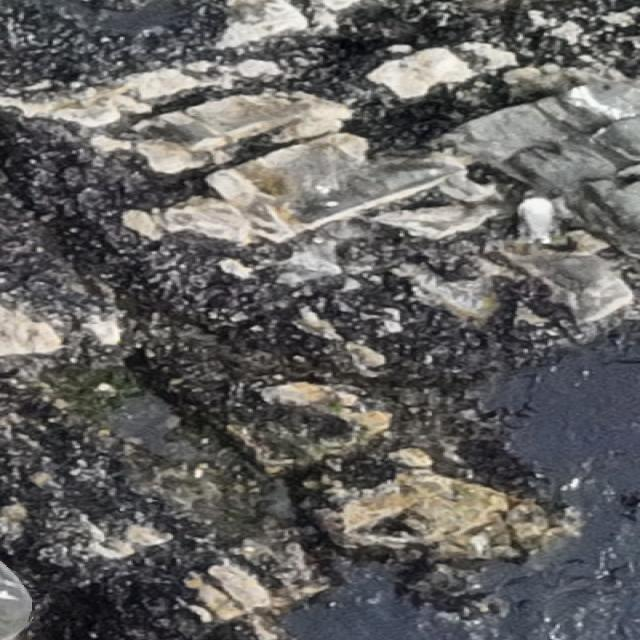umineko: (520, 197, 552, 241)
